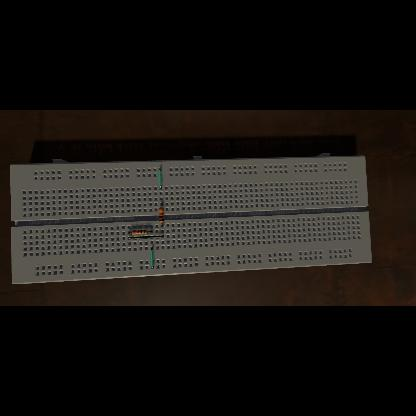breadboard: (10, 154, 372, 284)
resistor: (132, 230, 148, 236), (158, 208, 164, 223)
wire: (128, 236, 164, 240), (158, 169, 162, 189), (150, 248, 154, 268), (161, 204, 163, 208), (161, 223, 163, 226), (148, 232, 152, 233), (129, 232, 131, 234)
